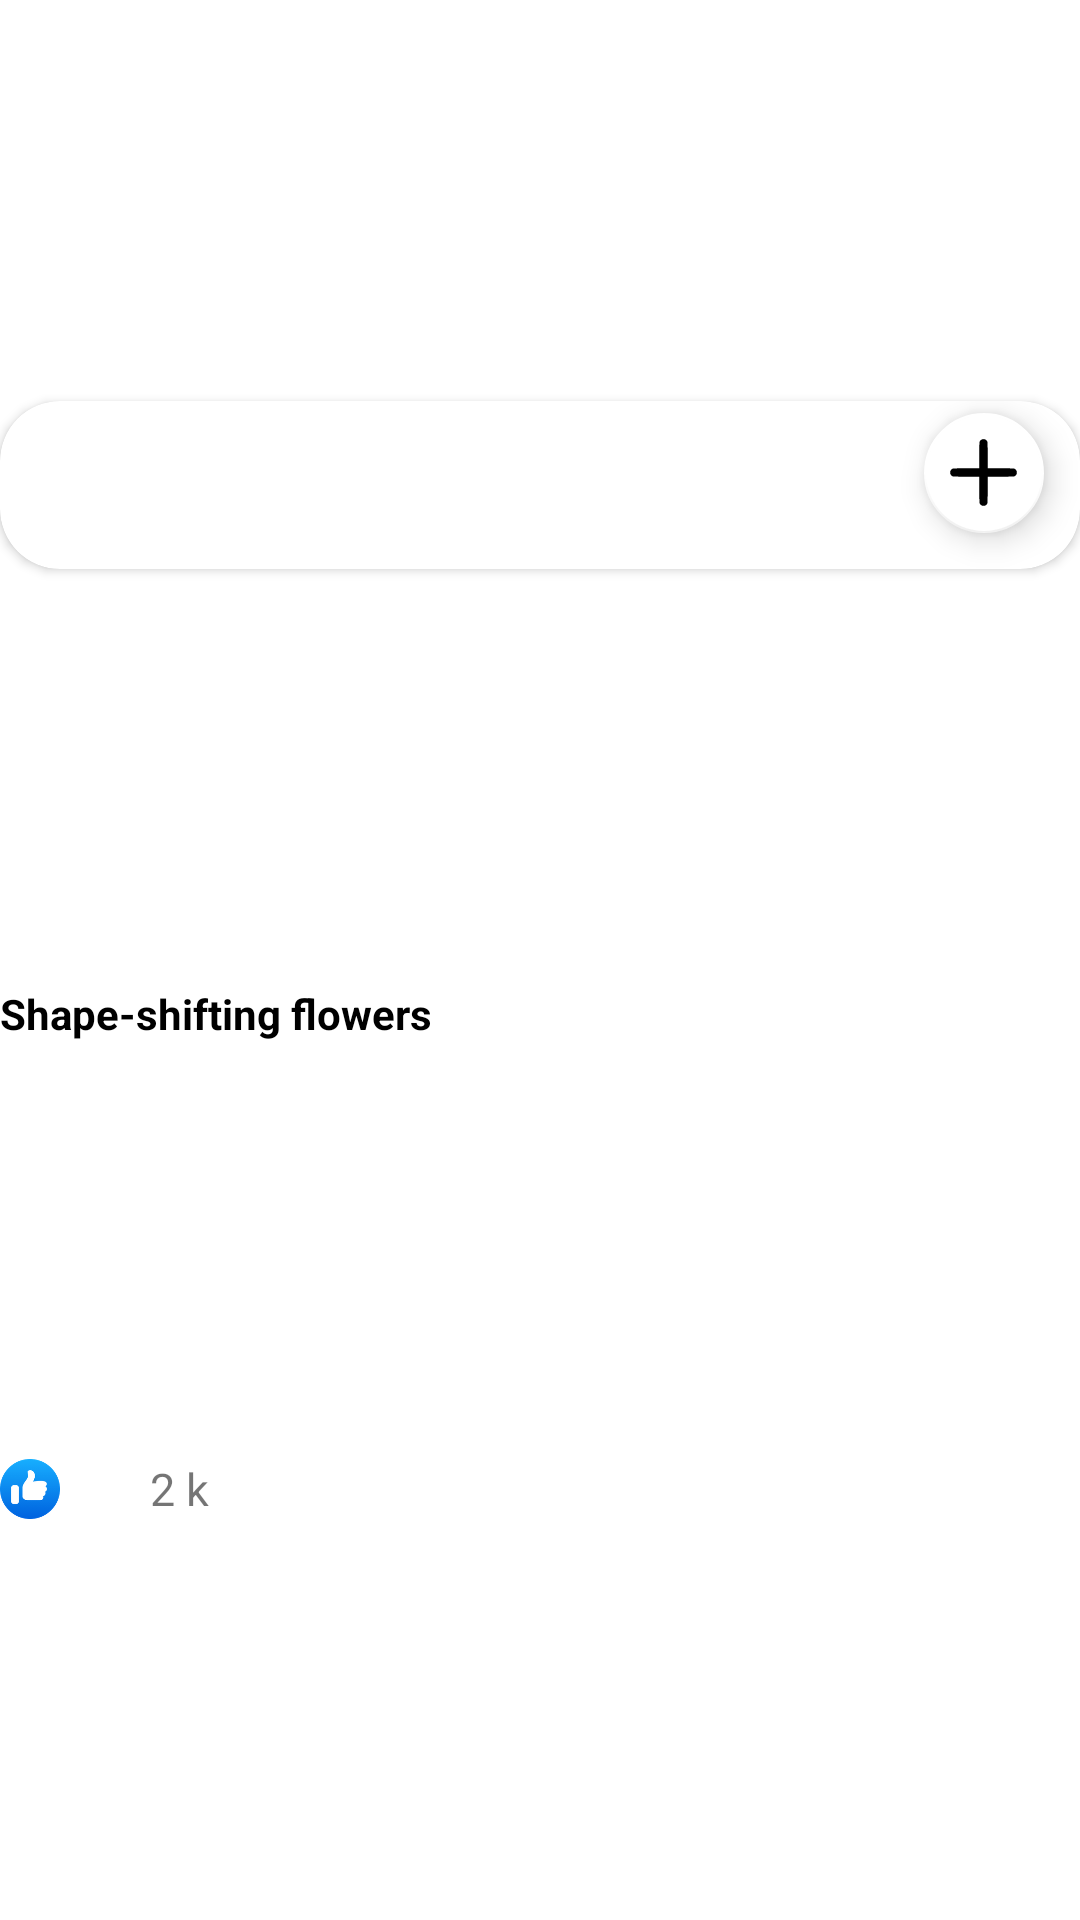

Named icons in this screenshot (1080px x 1920px) and their centers, (x=x, y=y):
add: (x=998, y=487)
